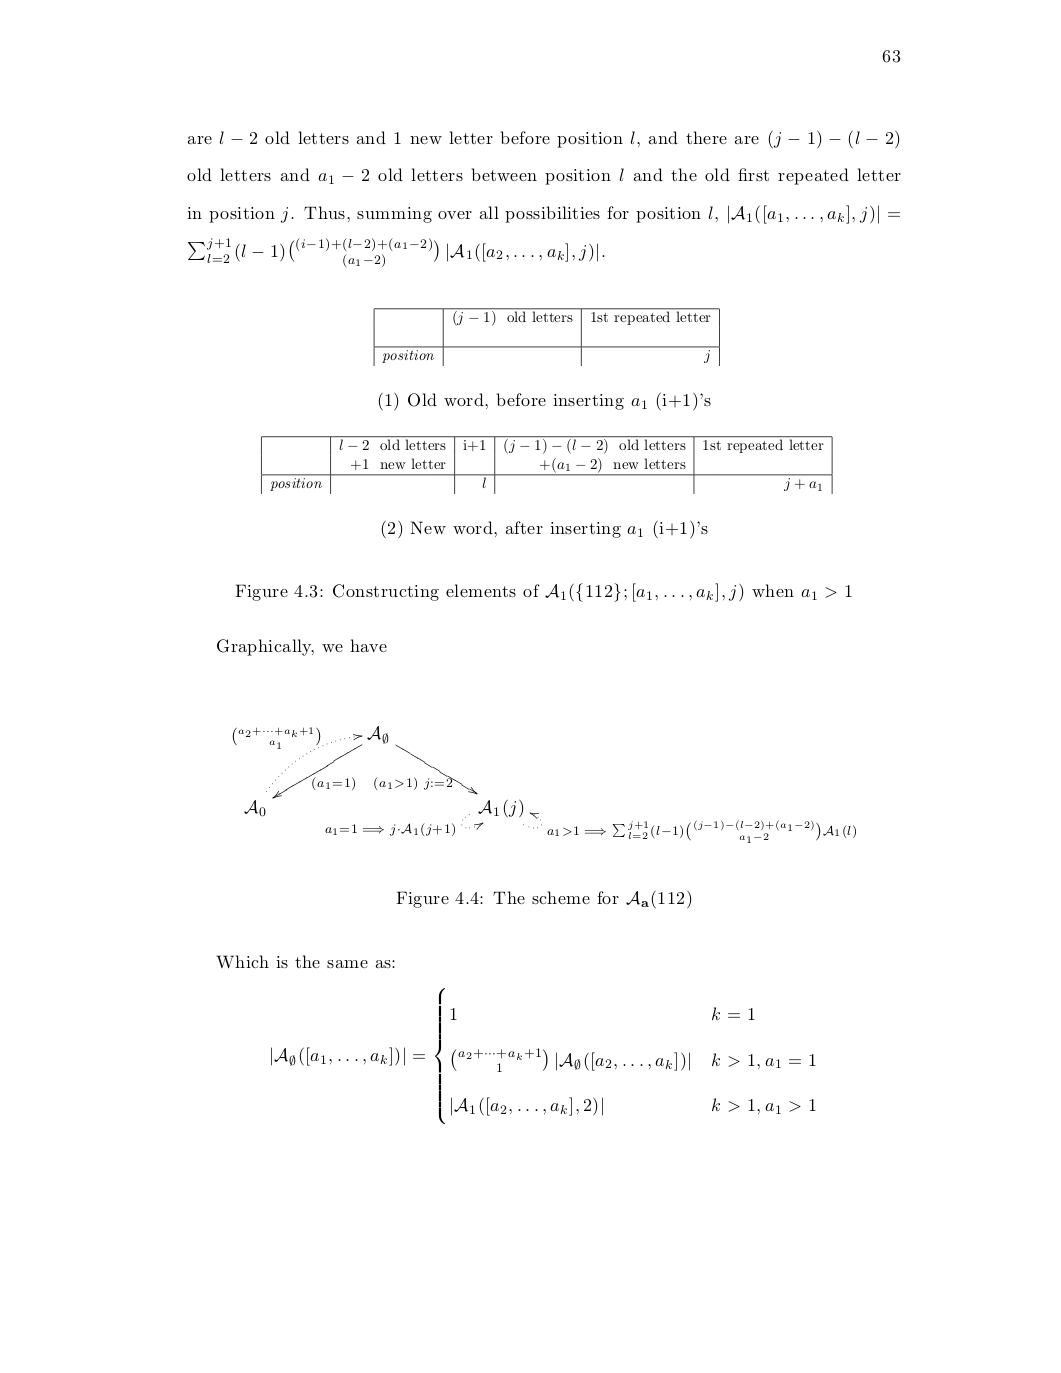Table: (260, 435, 833, 494), (373, 306, 719, 366)
figure: (232, 726, 855, 843)
formula: (271, 987, 815, 1124)
